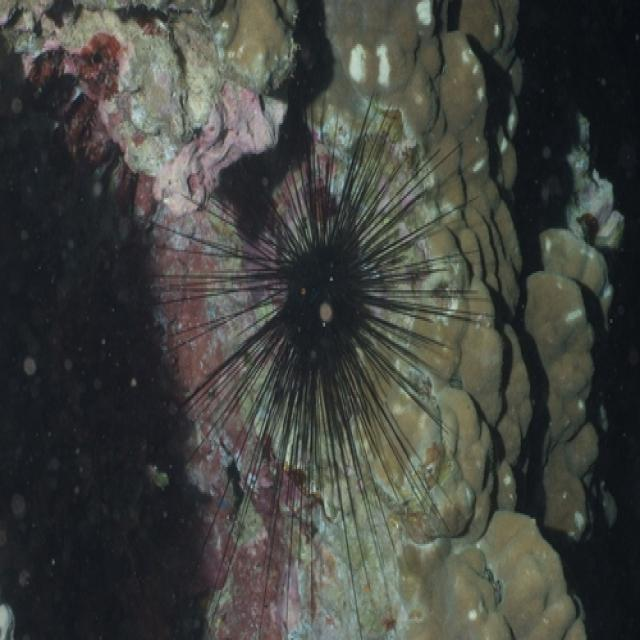Urchin: (155, 98, 495, 611)
